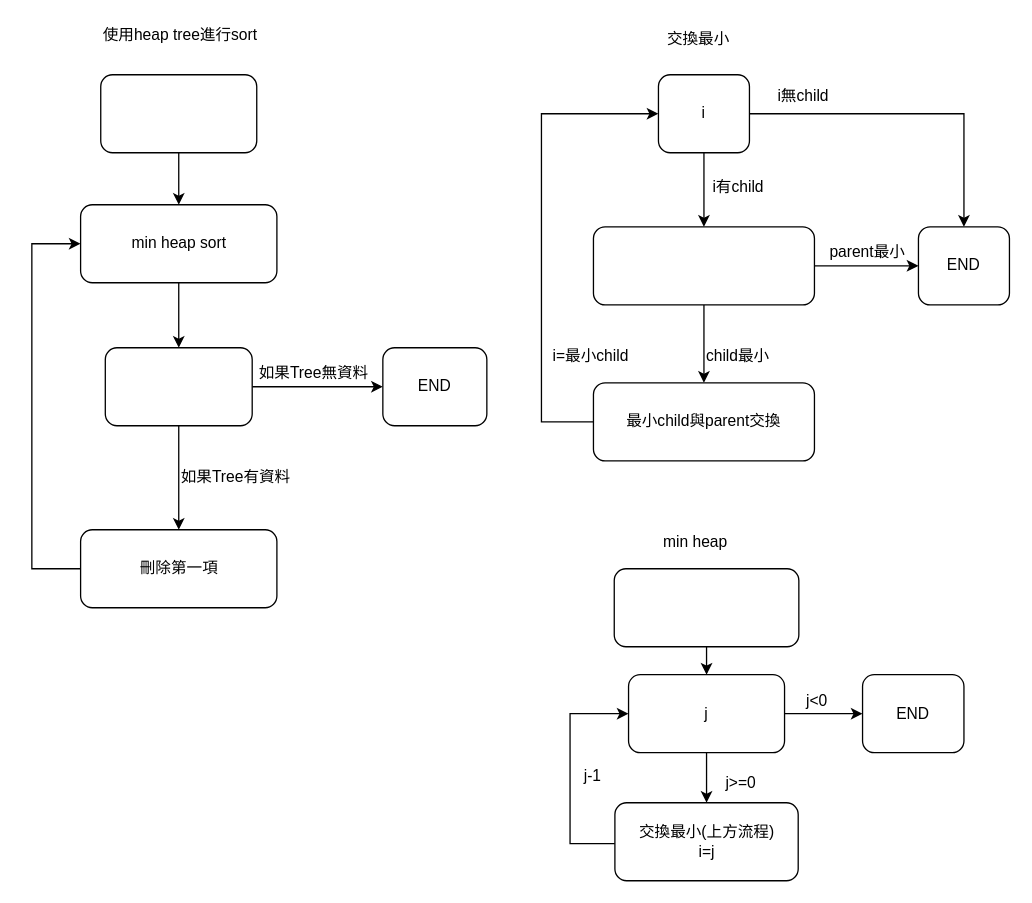
This 1032x903 diagram has some shape labels left out. The centre of each missing label's shape, as x and y in pixels:
"i,2i+1,2i+2 進行比大小" goes at [703,265].
"j為最後一個parent" goes at [706,607].
"取出第一項" goes at [178,386].
"將陣列換成Tree" goes at [178,113].
